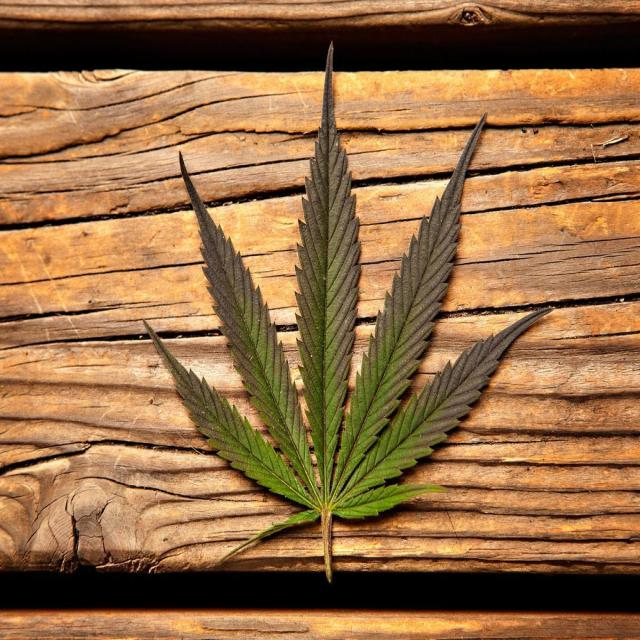cannabis: (142, 45, 552, 588)
